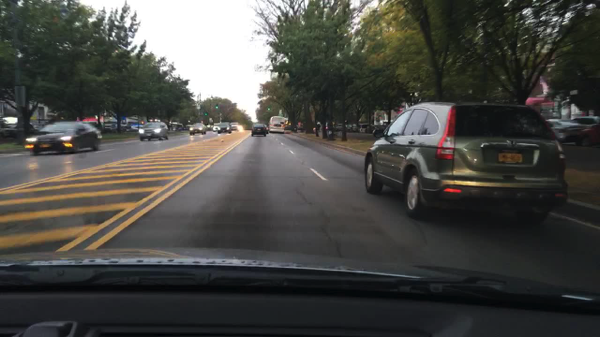bus: (269, 116, 286, 134)
car: (363, 100, 570, 226), (24, 120, 102, 156), (544, 118, 582, 145), (0, 117, 33, 140), (139, 121, 169, 142), (576, 124, 599, 147), (572, 115, 599, 132), (28, 119, 49, 132), (251, 123, 266, 137), (189, 123, 206, 135), (359, 122, 377, 133), (104, 122, 118, 133), (218, 122, 232, 133), (119, 121, 131, 131), (284, 123, 299, 131), (230, 122, 240, 132), (332, 124, 343, 132), (212, 122, 220, 132), (177, 126, 189, 132), (264, 124, 270, 135), (206, 123, 213, 132), (131, 125, 140, 132), (345, 125, 351, 132), (352, 124, 357, 132), (238, 125, 242, 132)
traffic light: (215, 104, 217, 109), (268, 106, 270, 111), (205, 112, 207, 116)
traffic sign: (15, 86, 25, 107), (209, 118, 213, 123)
